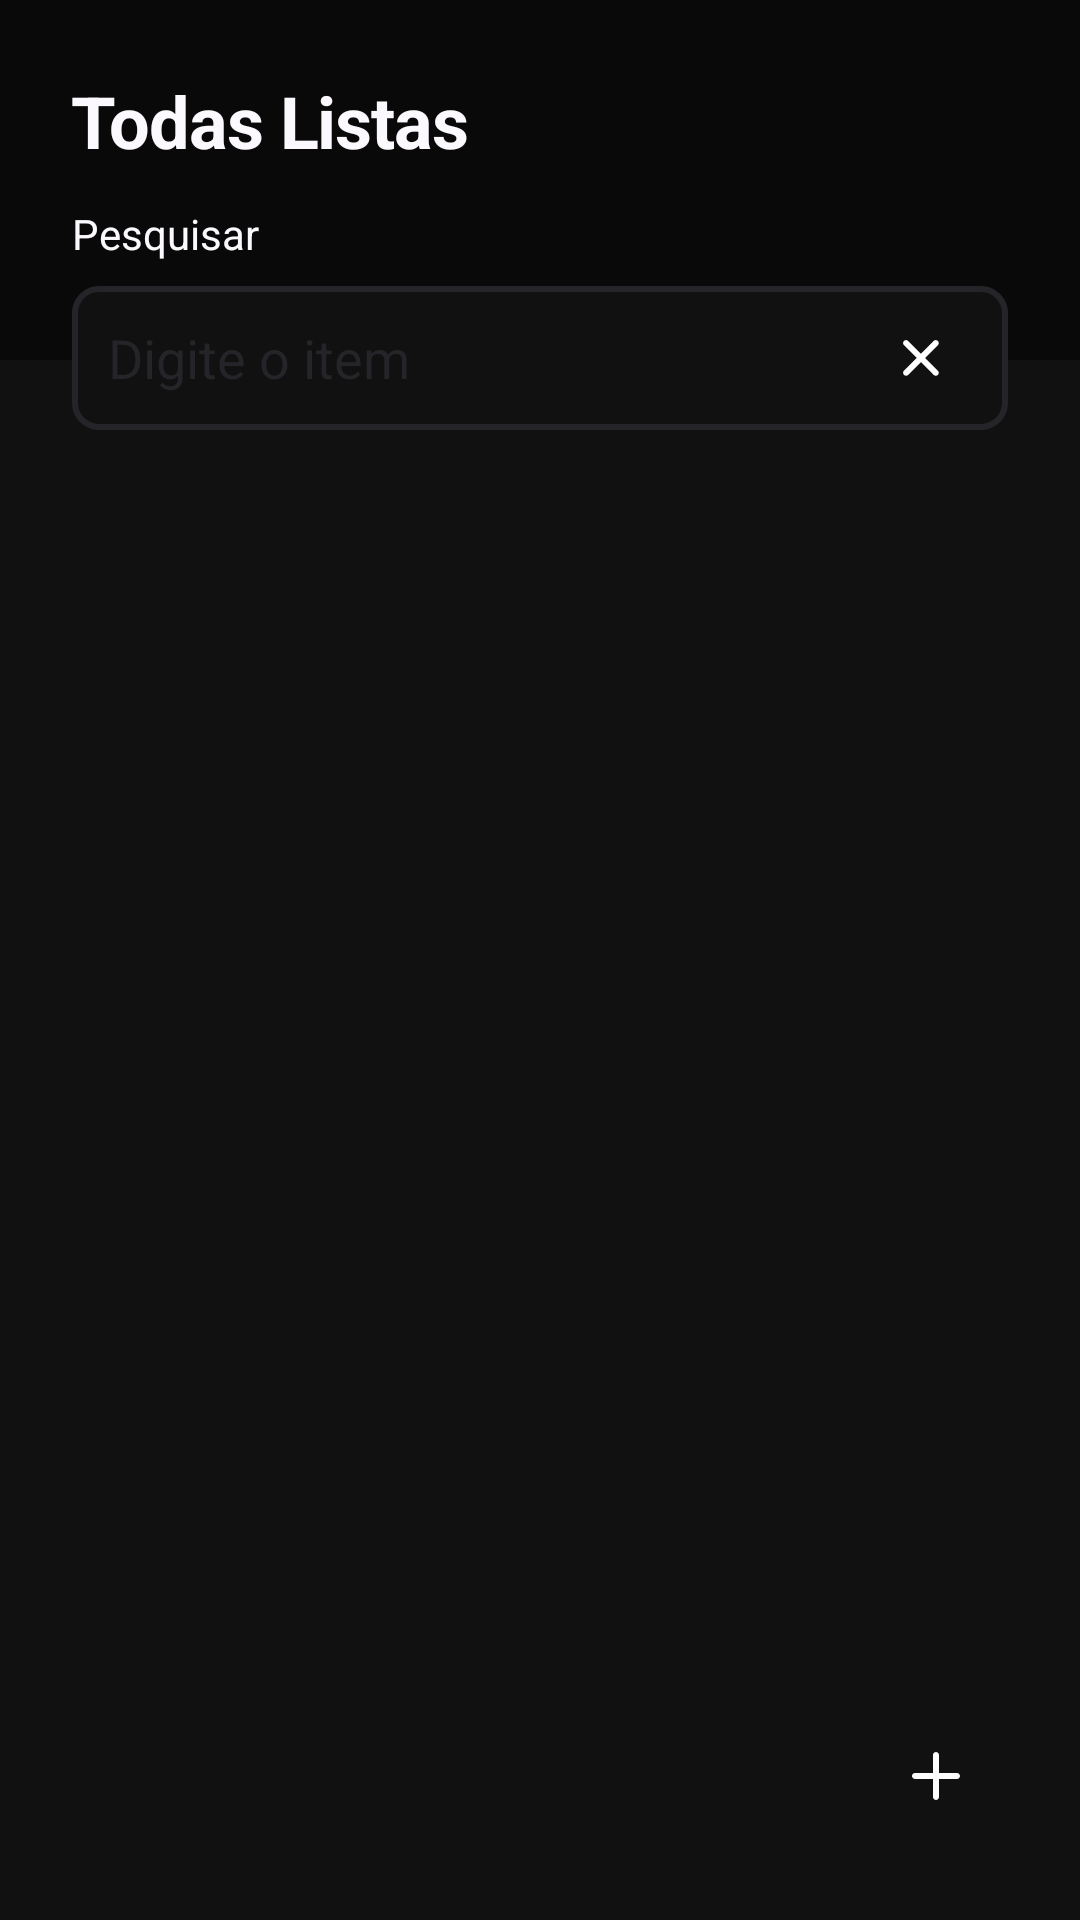

Icon bounding boxes for this 1080 × 1920 phone screenshot, format (x1, y1, x2, y2):
clear: (903, 340, 939, 376)
plus: (912, 1752, 960, 1800)
